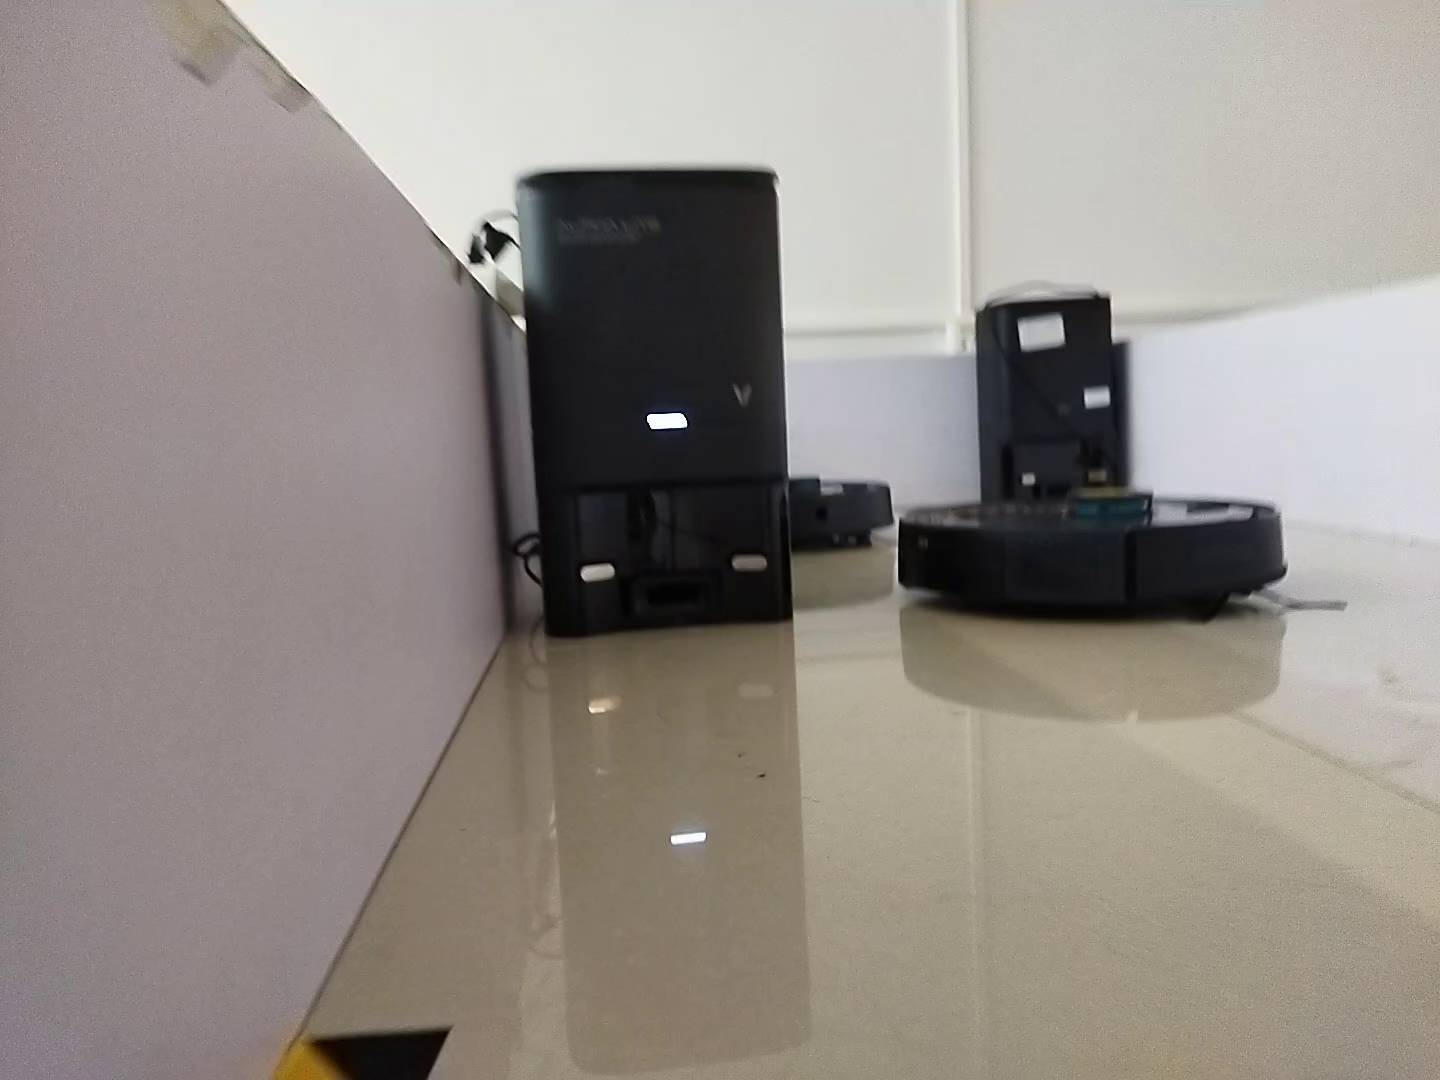dust collecting barrel: (514, 168, 797, 640), (973, 295, 1120, 499)
